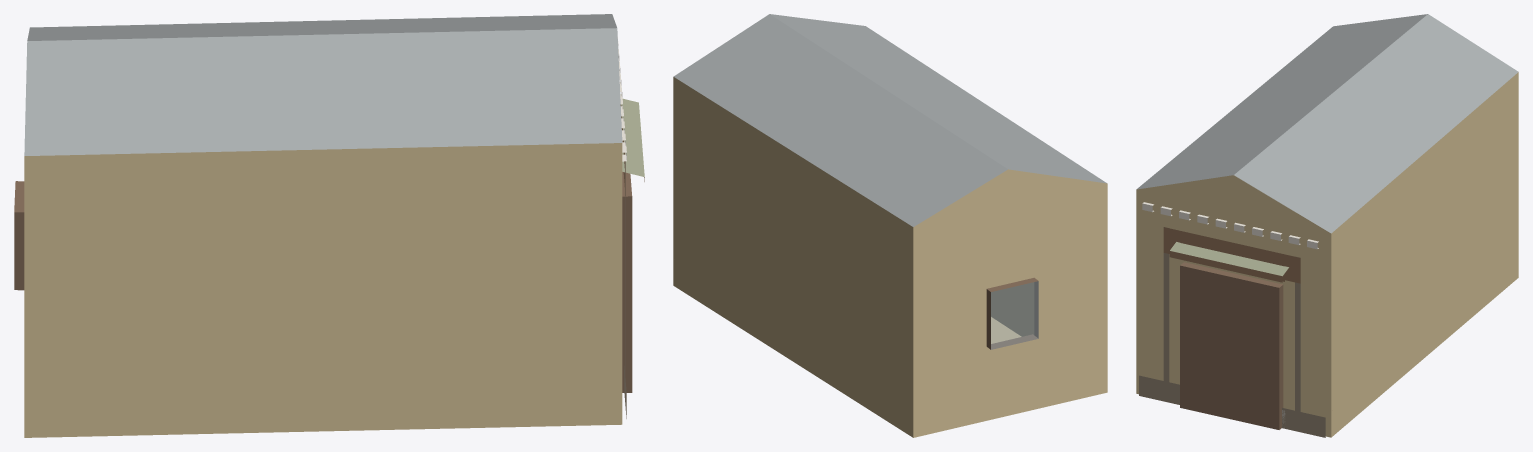
The picture shows the model from 3 angles, left to right: view 1: azimuth 30°, elevation 25°; view 2: azimuth 150°, elevation 25°; view 3: azimuth 270°, elevation 25°; orthographic projection. The views are drawn at different scales.
Visible parts, largest first — view 1: E-4; view 2: E-4; view 3: E-4.
Boxes of the visible parts, bbox=[...] form: E-4: bbox=[14, 14, 644, 437]; E-4: bbox=[673, 14, 1107, 437]; E-4: bbox=[1136, 14, 1518, 437].
Size of the model in its own units: 8.29 by 4.48 by 6.46.
